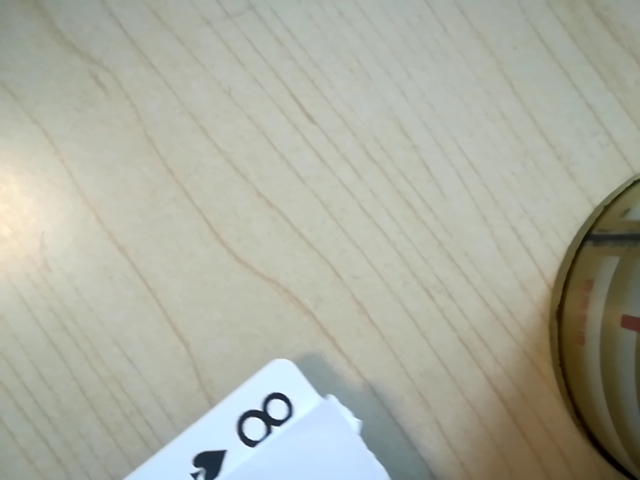ht 8: (174, 383, 312, 473)
